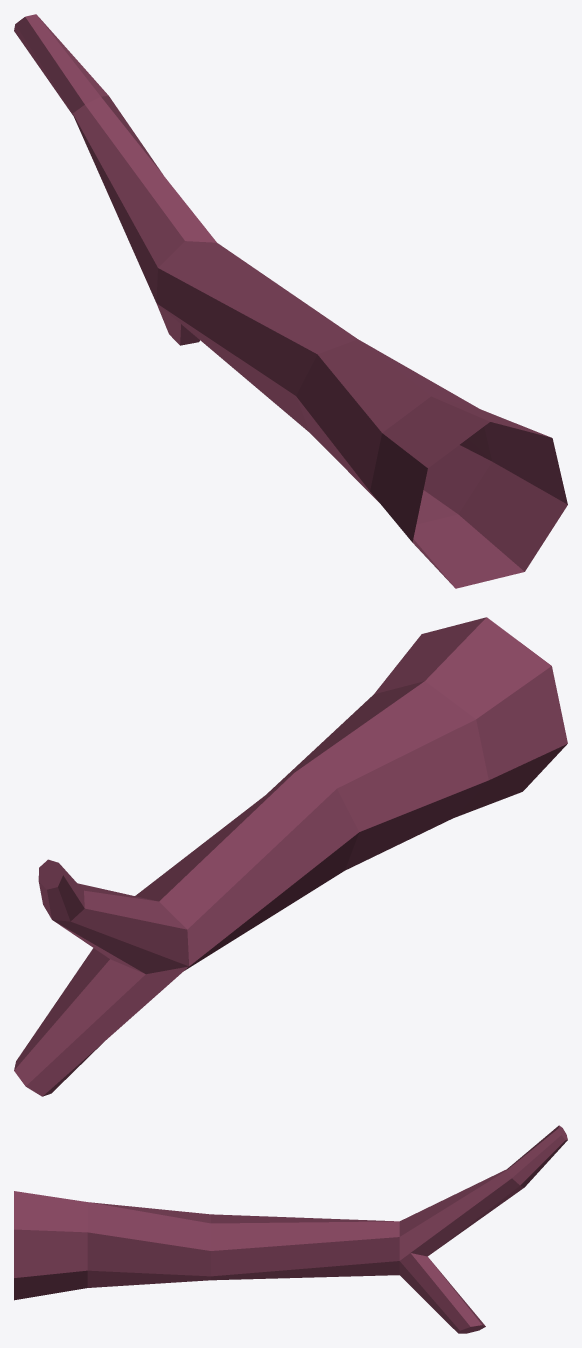
File: Tree.fbx
The picture shows the model from 3 angles, top to bottom: view 1: azimuth 30°, elevation 25°; view 2: azimuth 150°, elevation 25°; view 3: azimuth 270°, elevation 25°; orthographic projection. The views are drawn at different scales.
Visible parts, largest first — view 1: Tree.001; view 2: Tree.001; view 3: Tree.001.
Part boxes in pixels (x1,y1,x2,y2): Tree.001: [14, 14, 567, 588]; Tree.001: [14, 617, 567, 1096]; Tree.001: [14, 1125, 567, 1333].
Bounding box in the file's own units: 0.8777 × 1.53 × 4.18.
